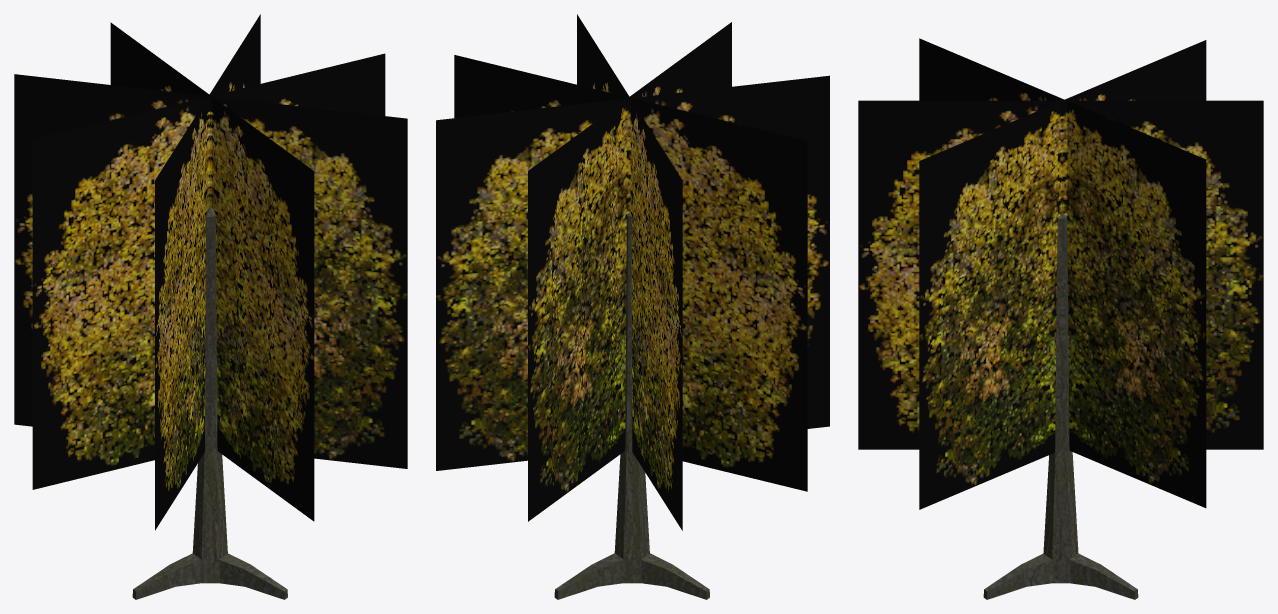
File: autumntree6_edit.glb
3 renders of one model, left to right at view 1: azimuth 30°, elevation 25°; view 2: azimuth 150°, elevation 25°; view 3: azimuth 270°, elevation 25°, orthographic.
Parts seen in each view (by area): view 1: tree06_top, tree06; view 2: tree06_top, tree06; view 3: tree06_top, tree06.
Boxes of the visible parts, left/top/right/bottom form: tree06_top: left=14, top=14, right=407, bottom=530; tree06: left=132, top=207, right=287, bottom=599; tree06_top: left=436, top=14, right=829, bottom=530; tree06: left=554, top=211, right=709, bottom=599; tree06_top: left=858, top=38, right=1263, bottom=509; tree06: left=983, top=212, right=1138, bottom=599.
Bounding box in the file's own units: 3.16 × 4.13 × 3.16.
Materials: 1 (1 with a texture image).
